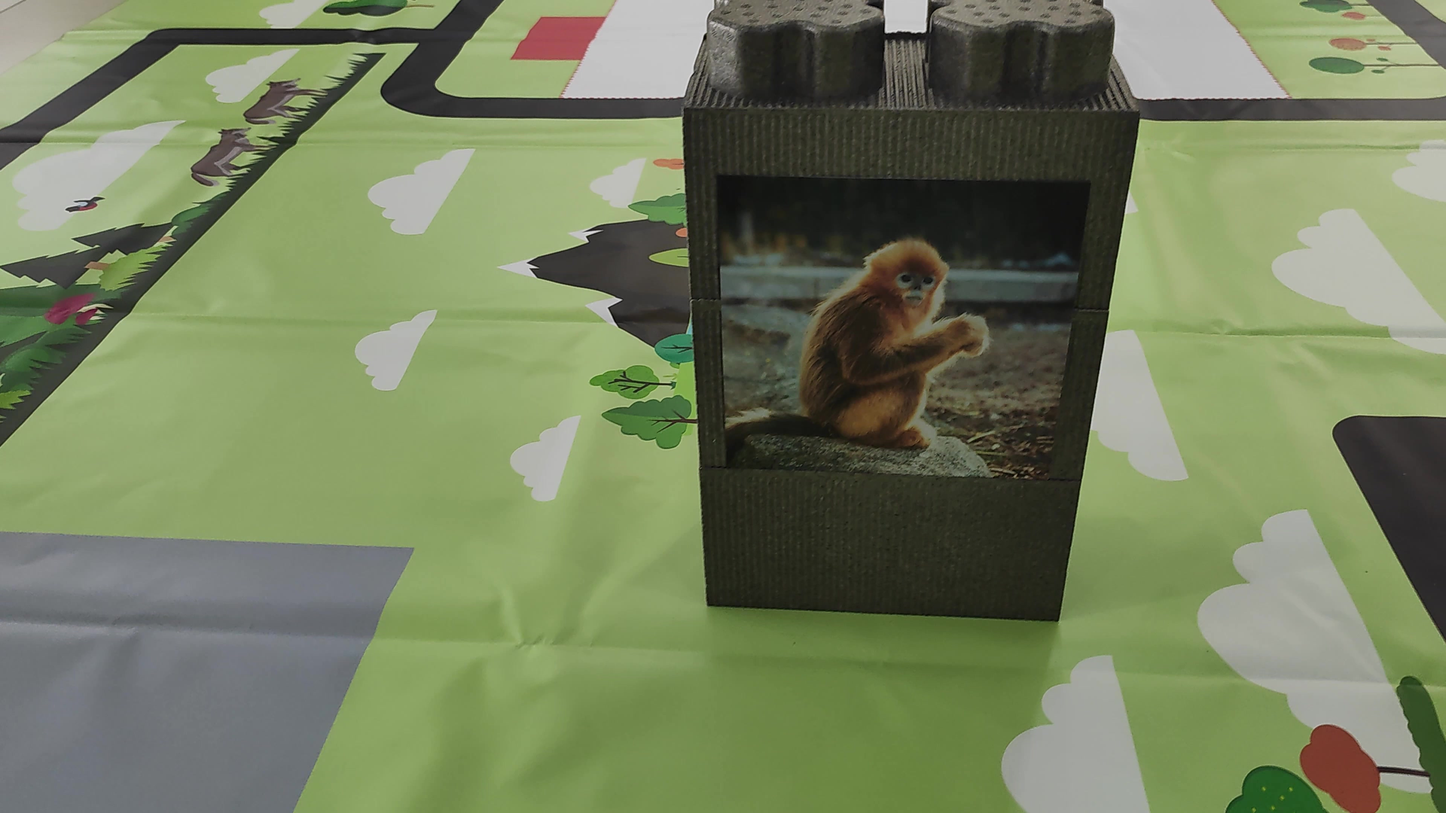monkey: (743, 186, 1022, 458)
